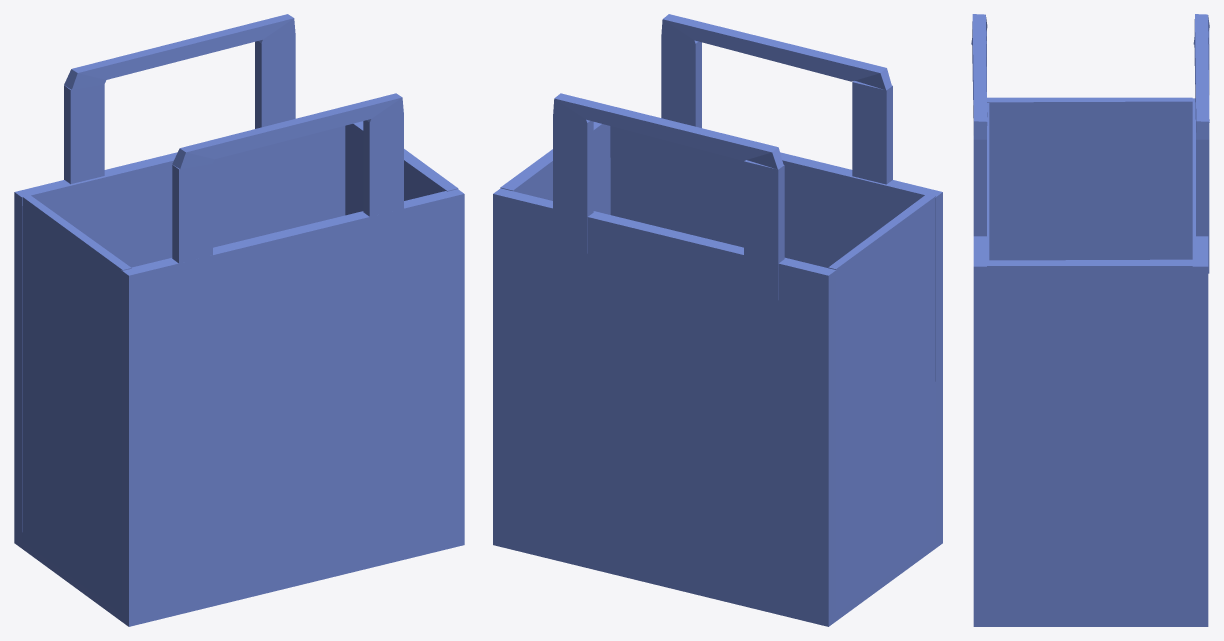
Rendered from bag.fbx.
The picture shows the model from 3 angles, left to right: view 1: azimuth 30°, elevation 25°; view 2: azimuth 150°, elevation 25°; view 3: azimuth 270°, elevation 25°; orthographic projection. The views are drawn at different scales.
Parts seen in each view (by area): view 1: Cube.001; view 2: Cube.001; view 3: Cube.001.
Part boxes in pixels (box(x1,y1,x2,y2)): Cube.001: box(14, 14, 464, 626); Cube.001: box(493, 14, 942, 626); Cube.001: box(971, 14, 1209, 626).
Size of the model in its own units: 200 by 263 by 120.
